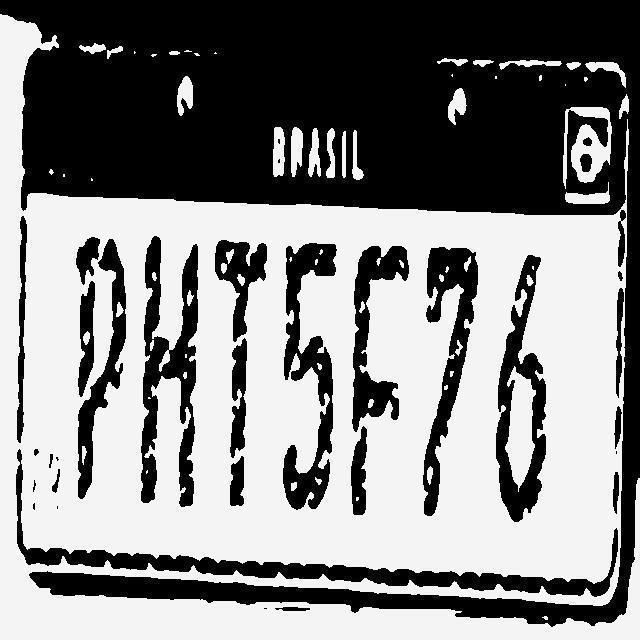5: (278, 224, 348, 508)
6: (492, 242, 564, 514)
7: (412, 237, 479, 513)
f: (348, 240, 414, 518)
h: (131, 239, 212, 517)
p: (60, 228, 138, 526)
t: (210, 235, 276, 502)
